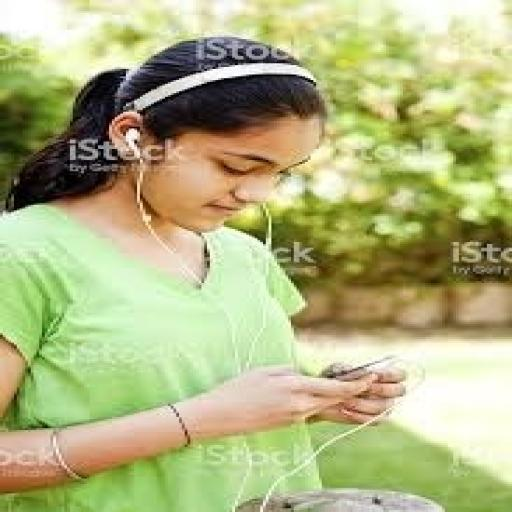listening_to_music: (0, 33, 411, 510)
